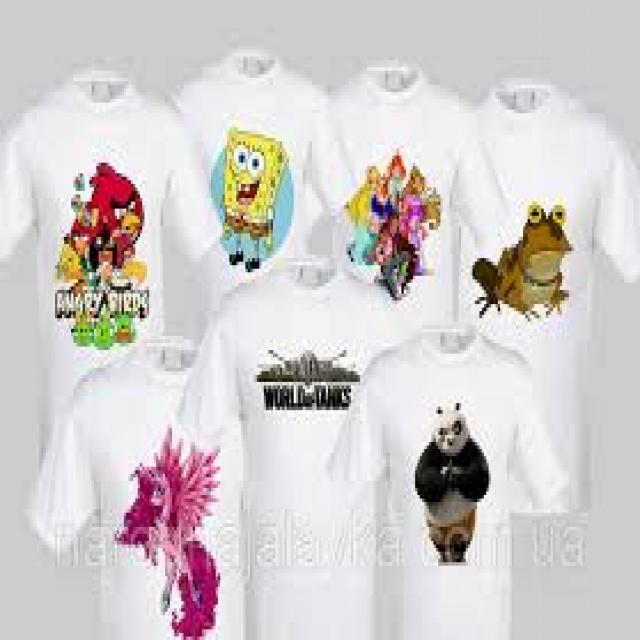Shirt: (190, 247, 412, 640), (0, 67, 207, 481), (462, 57, 640, 532), (348, 311, 562, 640), (316, 18, 500, 353), (41, 330, 238, 640), (158, 37, 349, 309)
